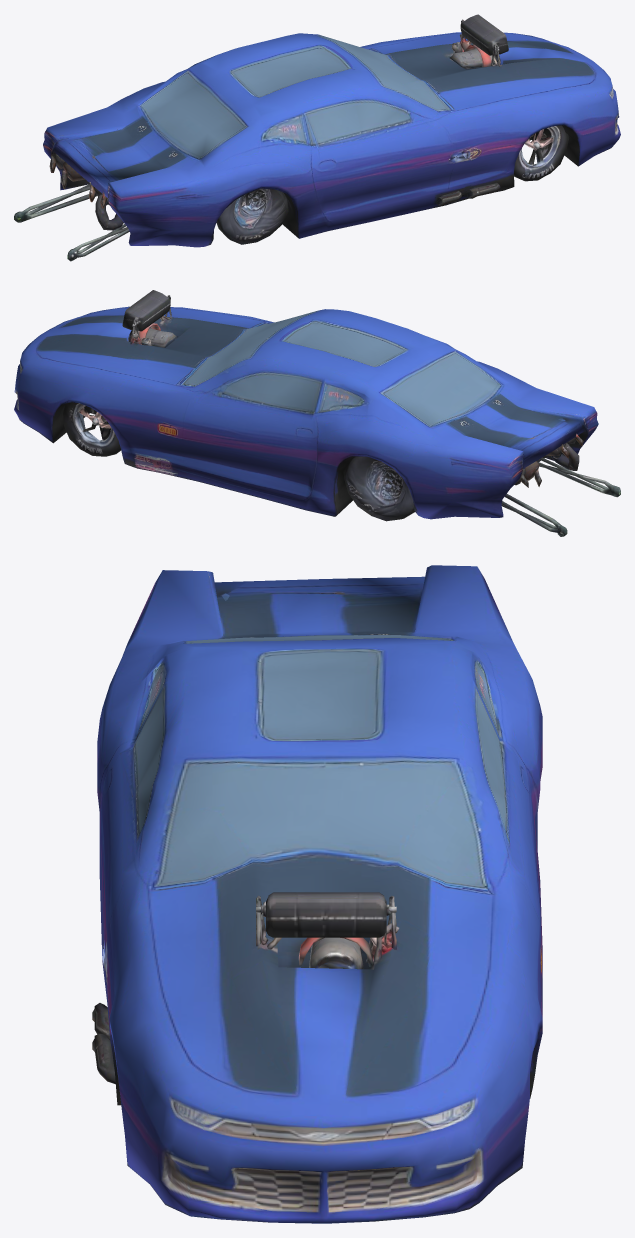
The model's file is magic3d-model-6faa3cbb-6458-437c-8502-5961579360b4.gltf.
3 views of the same model, one above another, from view 1: azimuth 30°, elevation 25°; view 2: azimuth 150°, elevation 25°; view 3: azimuth 270°, elevation 25° (orthographic). The views are drawn at different scales.
Visible parts, largest first — view 1: tripo_node_6faa3cbb-6458-437c-8502-5961579360b4; view 2: tripo_node_6faa3cbb-6458-437c-8502-5961579360b4; view 3: tripo_node_6faa3cbb-6458-437c-8502-5961579360b4.
Part boxes in pixels (x1,y1,x2,y2): tripo_node_6faa3cbb-6458-437c-8502-5961579360b4: [14, 14, 620, 261]; tripo_node_6faa3cbb-6458-437c-8502-5961579360b4: [14, 290, 620, 536]; tripo_node_6faa3cbb-6458-437c-8502-5961579360b4: [92, 565, 542, 1223].
Bounding box in the file's own units: 0.998 × 0.2324 × 0.3496.
Materials: 1 (1 with a texture image).
